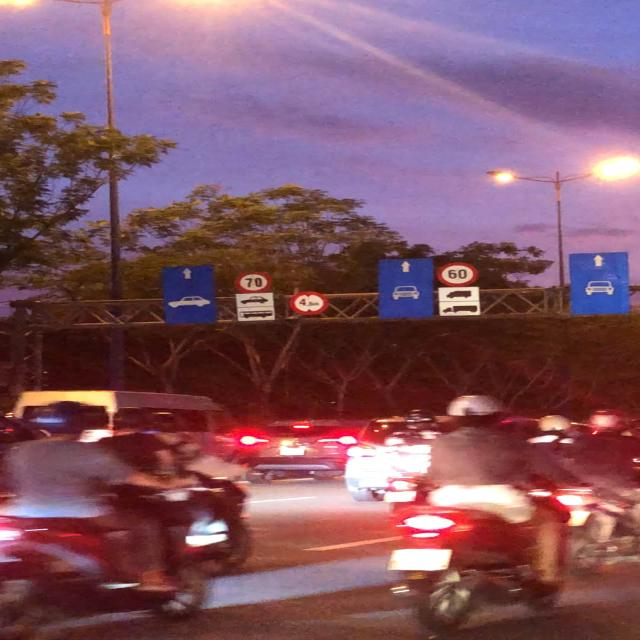Bien bao han che chieu cao: (287, 288, 330, 319)
Bien bao toc do toi da cho phep: (430, 260, 481, 288), (228, 269, 276, 295)
